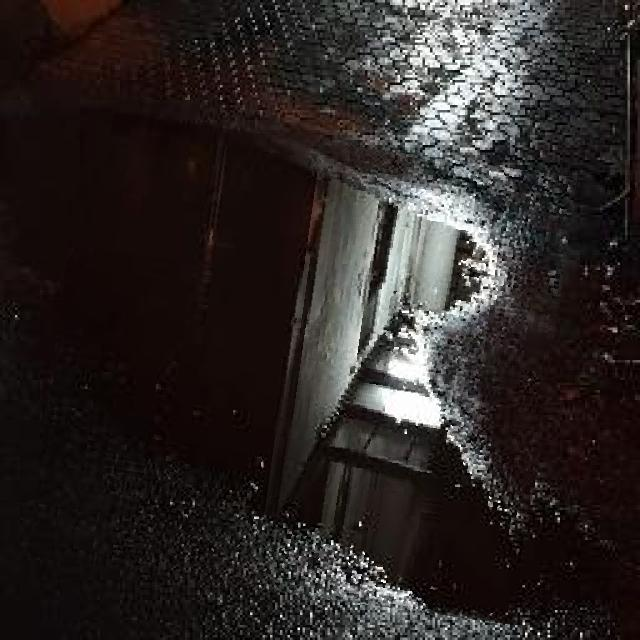puddle: (40, 127, 564, 611)
